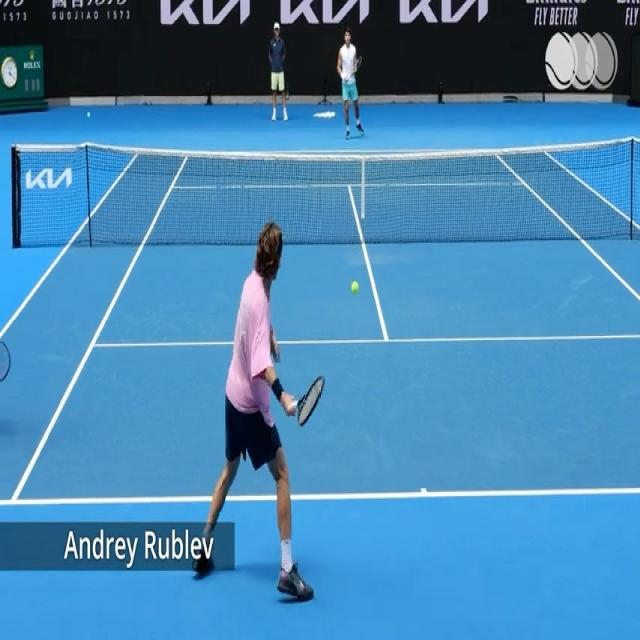forehand-ready: (200, 215, 328, 607)
